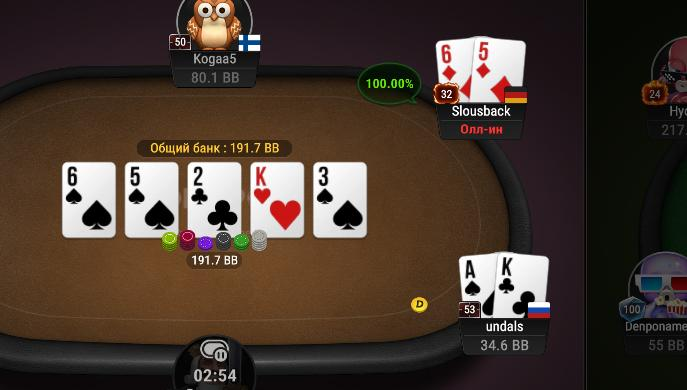2c: (188, 162, 243, 238)
3s: (313, 162, 366, 236)
5d: (474, 37, 525, 106)
5s: (125, 162, 178, 238)
6d: (434, 39, 474, 103)
6s: (63, 162, 115, 237)
As: (458, 252, 497, 318)
Kc: (496, 253, 547, 316)
Kh: (251, 162, 305, 238)
